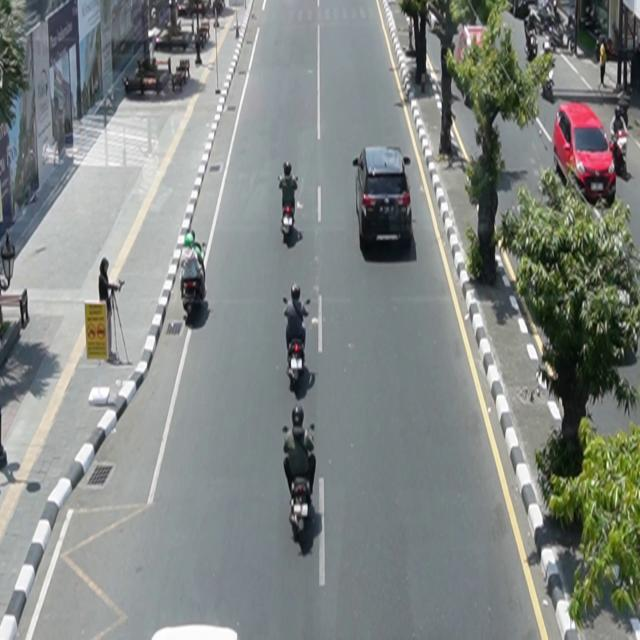car: (554, 102, 617, 207), (353, 146, 414, 251)
